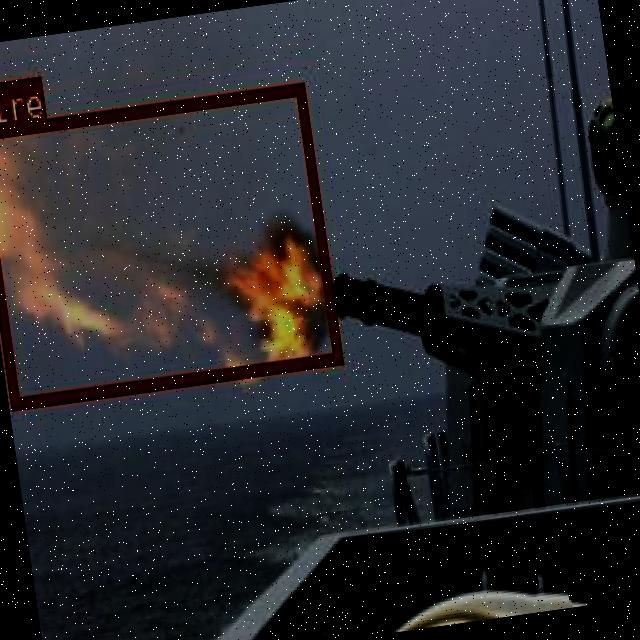fire: (0, 82, 342, 409)
